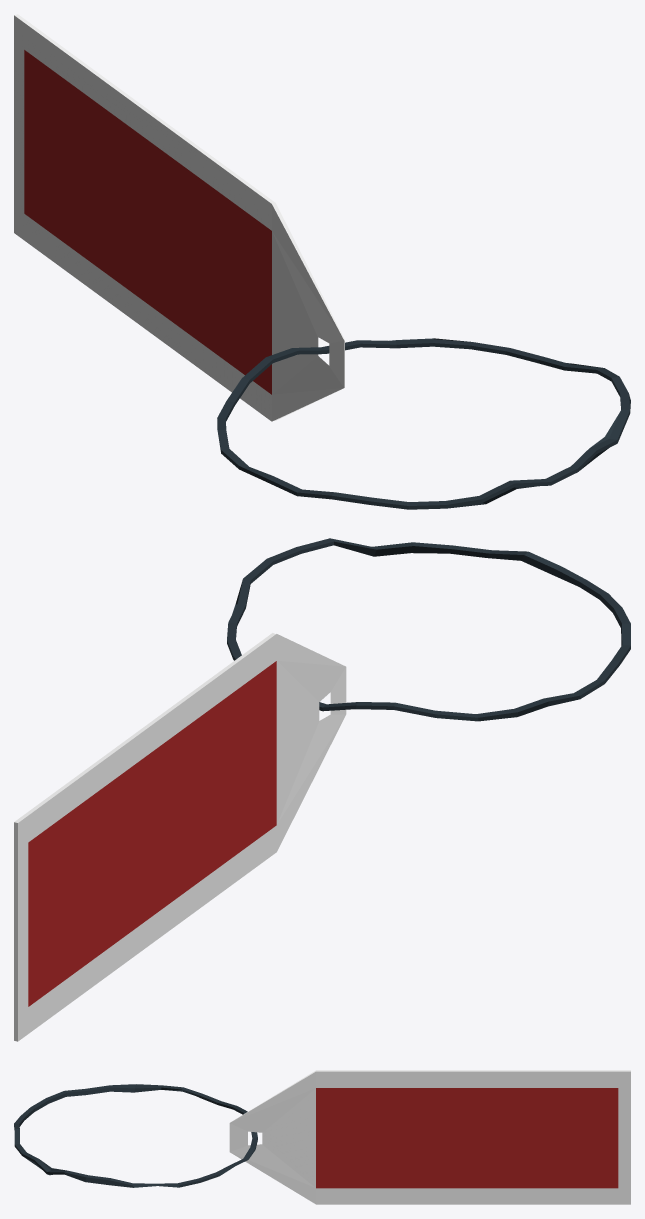
Rendered from RedFlatpointTag.fbx.
3 views of the same model, one above another, from view 1: azimuth 30°, elevation 25°; view 2: azimuth 150°, elevation 25°; view 3: azimuth 270°, elevation 25° (orthographic). The views are drawn at different scales.
Parts seen in each view (by area): view 1: RectangleFlatPointTag; view 2: RectangleFlatPointTag; view 3: RectangleFlatPointTag.
Part boxes in pixels (x1,y1,x2,y2): RectangleFlatPointTag: [14, 14, 630, 509]; RectangleFlatPointTag: [14, 538, 630, 1041]; RectangleFlatPointTag: [14, 1070, 630, 1204].
Bounding box in the file's own units: 55.68 × 31.91 × 134.
